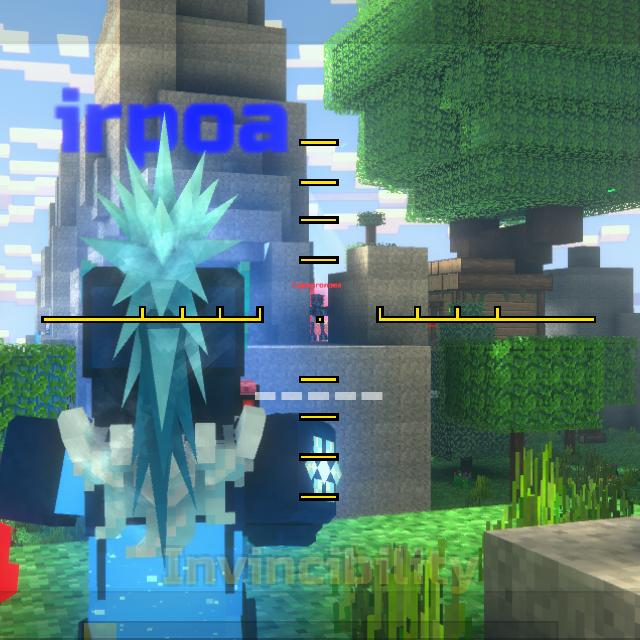Enemy: (309, 294, 328, 341)
